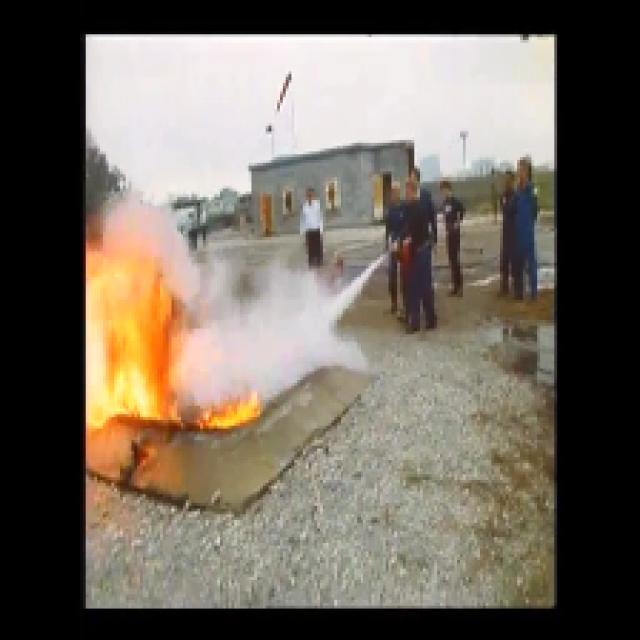fire: (89, 262, 164, 426)
